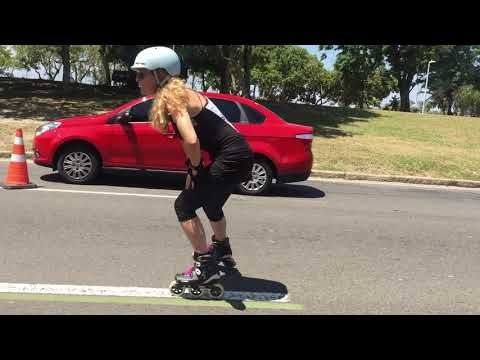roller_blade: (170, 248, 216, 296), (210, 239, 238, 272)
